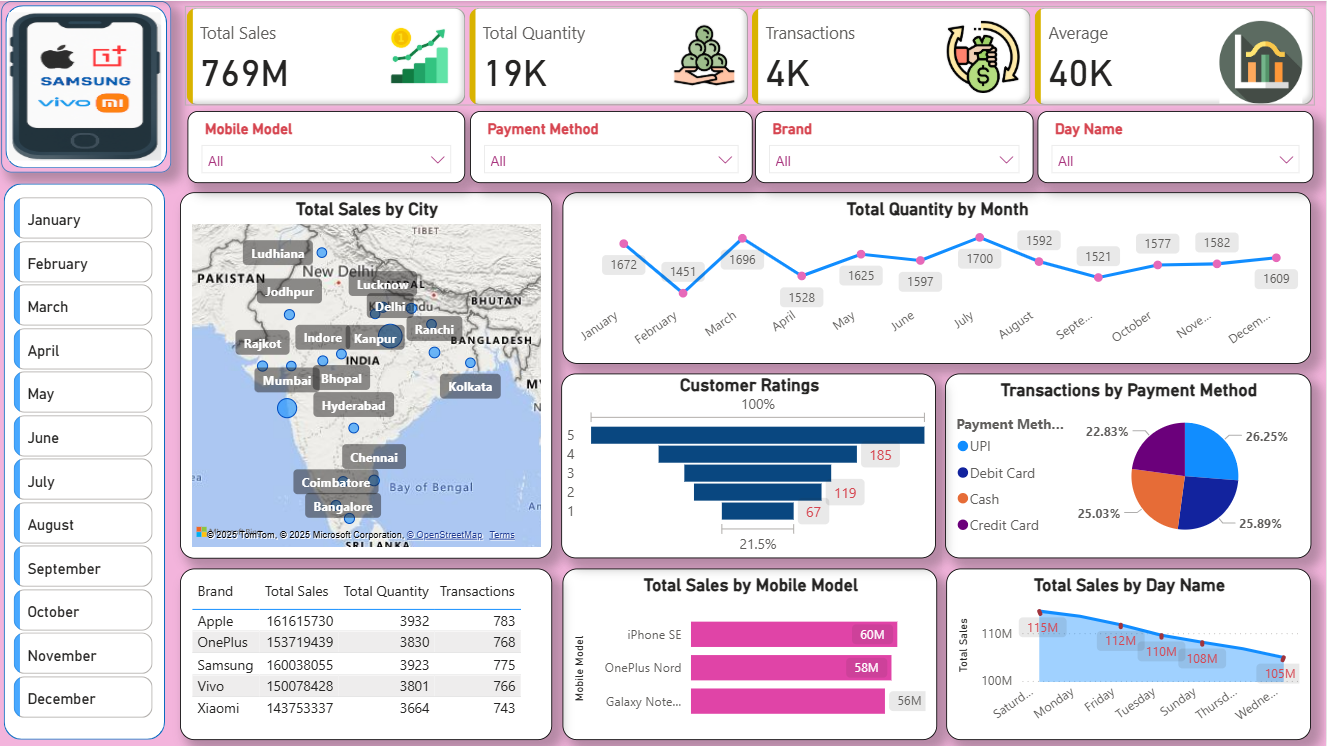

The dashboard page shown, as its layout file describes it:
{"tool":"powerbi","page":{"name":"Page 1","canvas":[1280,720],"ordinal":0},"visuals":[{"type":"shape","box":[1.2,0,164.1,165.3],"z":0},{"type":"shape","box":[3.6,176.1,155.6,536.9],"z":2000},{"type":"advancedSlicerVisual","fields":{"Values":["Sales data.Date.Variation.Date Hierarchy.Month"]},"box":[8.4,184.6,144.8,518.8],"z":3000},{"type":"cardVisual","fields":{"Data":["Sales data.Total Sales","Sales data.Total Quantity","Sales data.Transactions","Sales data.Average"]},"box":[173.7,0,1100.3,106.2],"z":4000},{"type":"map","fields":{"Category":["Sales data.City"],"Size":["Sales data.Total Sales"]},"box":[173.7,184.6,359.5,353.5],"z":5000},{"type":"lineChart","fields":{"Category":["Sales data.Date.Variation.Date Hierarchy.Month","Sales data.Date.Variation.Date Hierarchy.Day"],"Y":["Sales data.Total Quantity"]},"box":[542.9,184.6,722.7,165.3],"z":6000},{"type":"clusteredBarChart","title":"Total Sales by Mobile Model","fields":{"Category":["Sales data.Mobile Model"],"Y":["Sales data.Total Sales"]},"box":[542.9,547.7,361.9,165.3],"z":7000},{"type":"pieChart","fields":{"Category":["Sales data.Payment Method"],"Y":["Sales data.Transactions"]},"box":[912.1,359.5,353.5,178.6],"z":8000},{"type":"funnel","title":"Customer Ratings","fields":{"Category":["Sales data.Customer Ratings"],"Y":["CountNonNull(Sales data.Customer Ratings)"]},"box":[541.7,359.5,361.9,178.6],"z":9000},{"type":"areaChart","fields":{"Category":["Sales data.Day Name"],"Y":["Sales data.Total Sales"]},"box":[913.3,547.7,352.3,165.3],"z":10000},{"type":"tableEx","fields":{"Values":["Sales data.Brand","Sales data.Total Sales","Sales data.Total Quantity","Sales data.Transactions"]},"box":[173.7,547.7,359.5,165.3],"z":11000},{"type":"slicer","fields":{"Values":["Sales data.Mobile Model"]},"box":[181,106.2,267.8,70],"z":12000},{"type":"slicer","fields":{"Values":["Sales data.Payment Method"]},"box":[453.6,106.2,272.7,70],"z":13000},{"type":"slicer","fields":{"Values":["Sales data.Brand"]},"box":[728.7,106.2,269,70],"z":14000},{"type":"slicer","fields":{"Values":["Sales data.Day Name"]},"box":[1001.3,106.2,266.6,70],"z":15000},{"type":"image","box":[3.6,6,156.8,153.2],"z":15001}]}

Visuals, with their boxes in screenshot pixels (x1, y1, x2, y2), scaled from the page's 1280x720 canvas onto the 1327x746 screenshot:
shape: rect(1, 0, 171, 171)
shape: rect(4, 182, 165, 739)
advancedSlicerVisual - Sales data.Date.Variation.Date Hierarchy.Month: rect(9, 191, 159, 729)
cardVisual - Sales data.Total Sales x Sales data.Total Quantity: rect(180, 0, 1321, 110)
map - Sales data.City x Sales data.Total Sales: rect(180, 191, 553, 558)
lineChart - Sales data.Date.Variation.Date Hierarchy.Month x Sales data.Date.Variation.Date Hierarchy.Day: rect(563, 191, 1312, 363)
"Total Sales by Mobile Model" clusteredBarChart: rect(563, 567, 938, 739)
pieChart - Sales data.Payment Method x Sales data.Transactions: rect(946, 372, 1312, 558)
"Customer Ratings" funnel: rect(562, 372, 937, 558)
areaChart - Sales data.Day Name x Sales data.Total Sales: rect(947, 567, 1312, 739)
tableEx - Sales data.Brand x Sales data.Total Sales: rect(180, 567, 553, 739)
slicer - Sales data.Mobile Model: rect(188, 110, 465, 183)
slicer - Sales data.Payment Method: rect(470, 110, 753, 183)
slicer - Sales data.Brand: rect(755, 110, 1034, 183)
slicer - Sales data.Day Name: rect(1038, 110, 1314, 183)
image: rect(4, 6, 166, 165)
